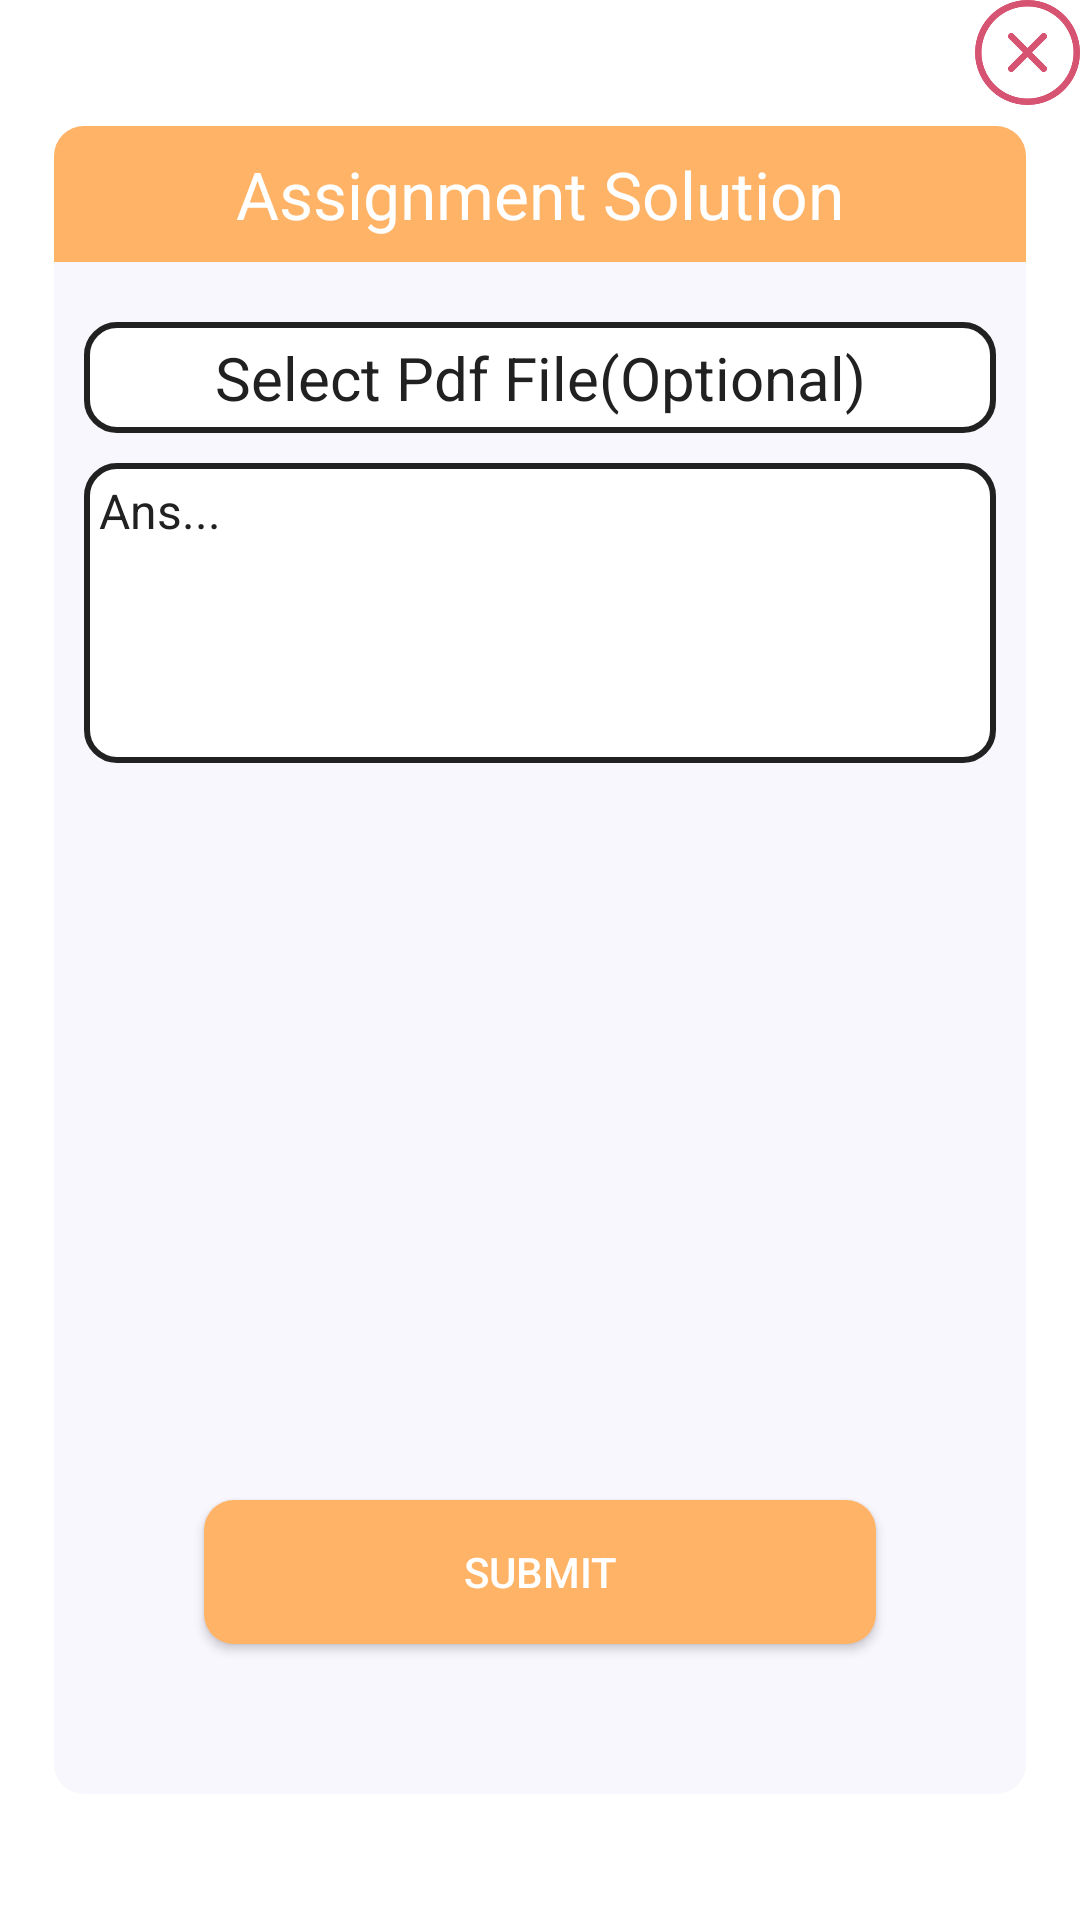

Icon bounding boxes for this 1080px×1920px phone screenshot, format (x1, y1, x2, y2):
remove: (975, 0, 1080, 105)
